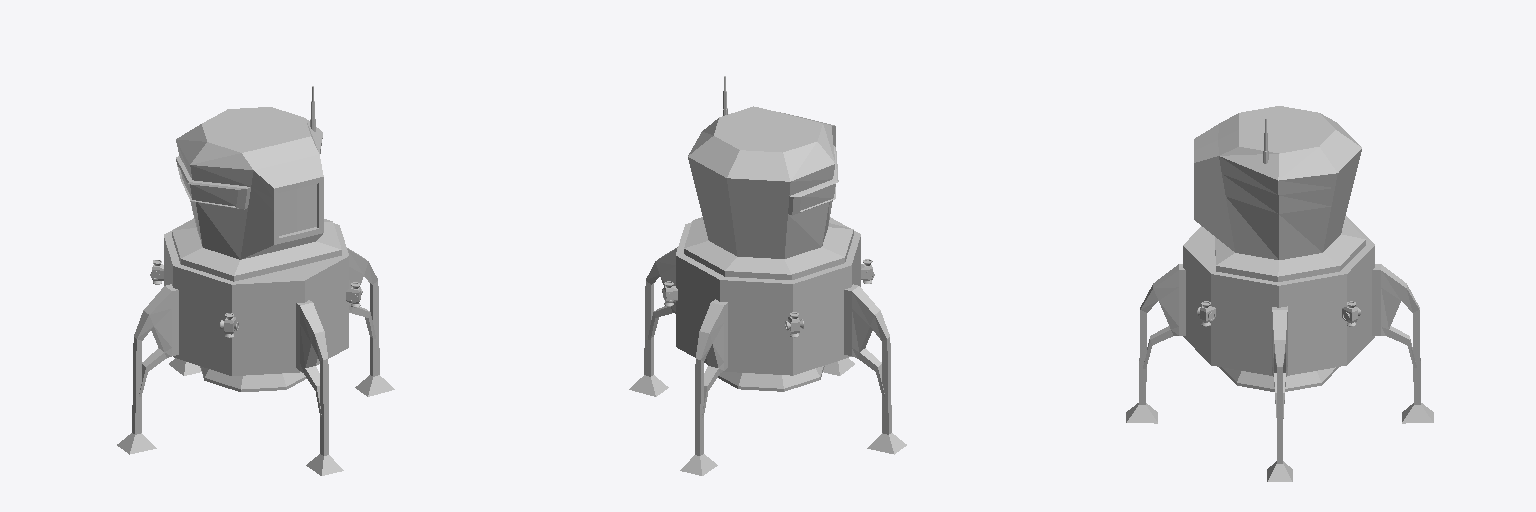
The model's file is lander.obj.
3 renders of one model, left to right at view 1: azimuth 30°, elevation 25°; view 2: azimuth 150°, elevation 25°; view 3: azimuth 270°, elevation 25°, orthographic.
Bounding box in the file's own units: 4.96 × 5.78 × 4.96.